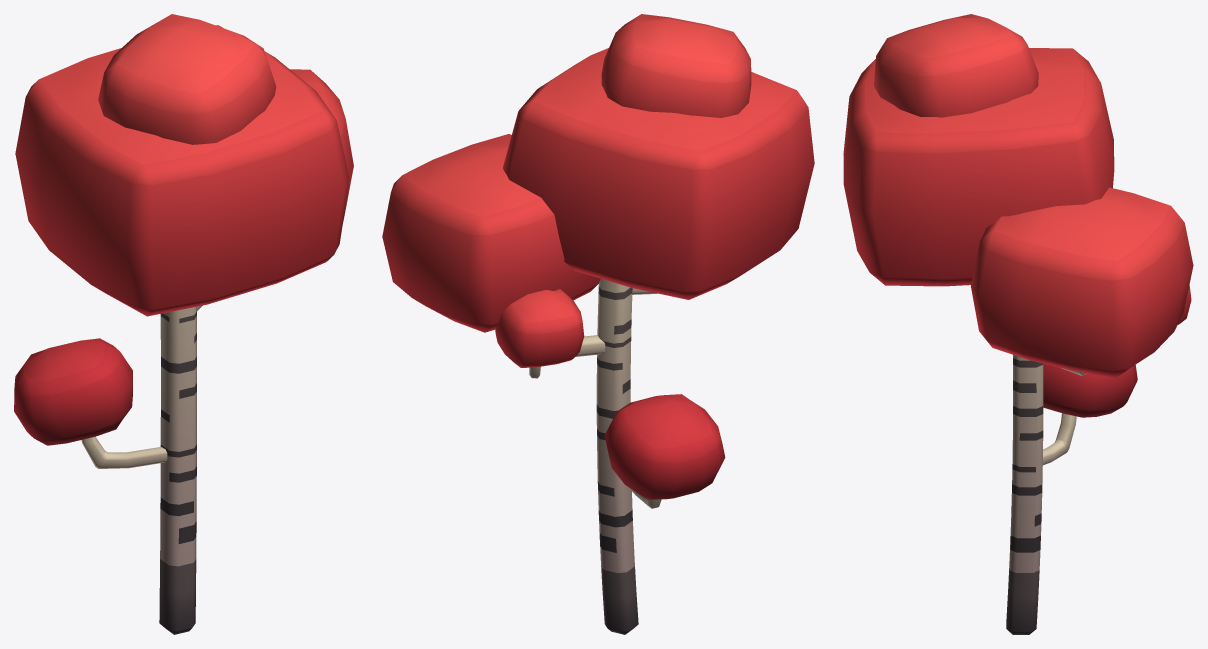
File: birch_tree_col3_03.fbx
The picture shows the model from 3 angles, left to right: view 1: azimuth 30°, elevation 25°; view 2: azimuth 150°, elevation 25°; view 3: azimuth 270°, elevation 25°; orthographic projection. The views are drawn at different scales.
Parts seen in each view (by area): view 1: birch_tree_col3_03; view 2: birch_tree_col3_03; view 3: birch_tree_col3_03.
Part boxes in pixels (x1=…): birch_tree_col3_03: x1=14, y1=14, x2=353, y2=634; birch_tree_col3_03: x1=382, y1=14, x2=814, y2=634; birch_tree_col3_03: x1=843, y1=14, x2=1193, y2=634.
Size of the model in its own units: 540 by 937 by 500.
1 material, 1 textured.
